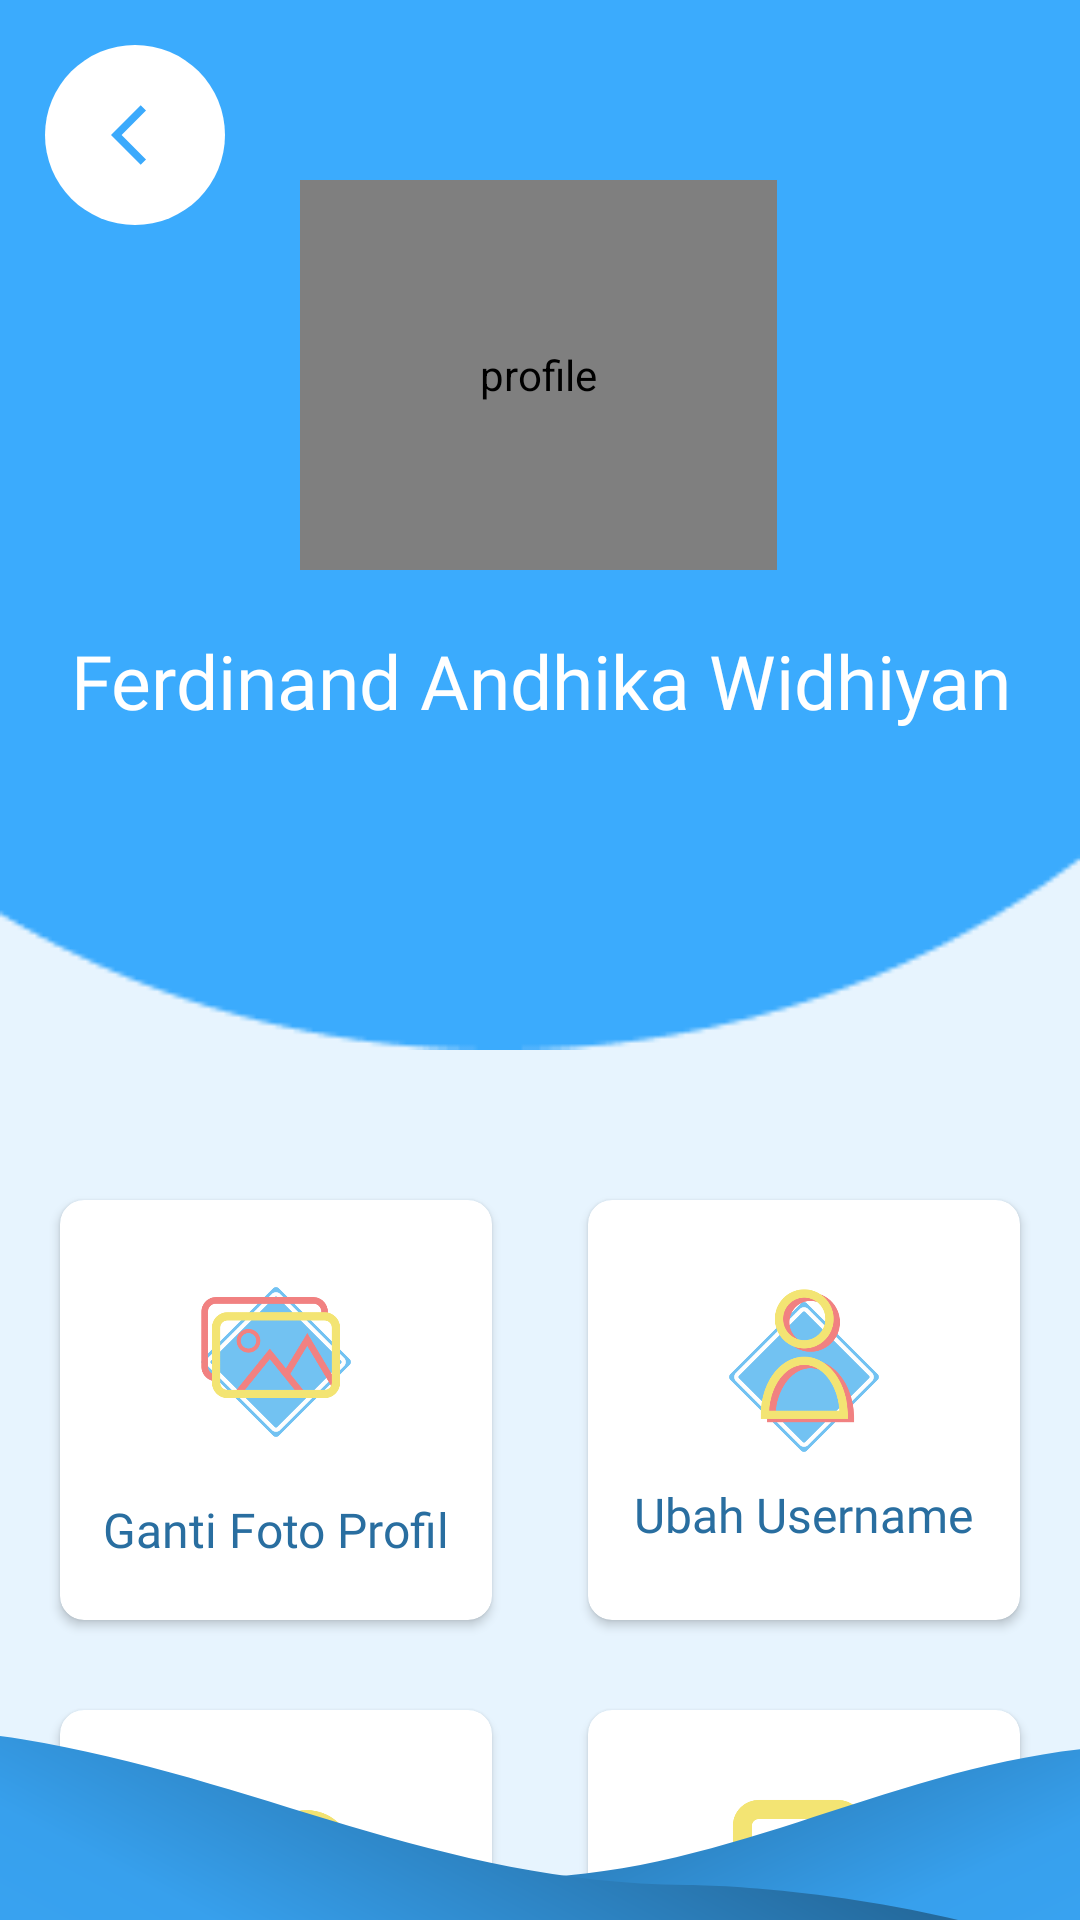

Icons on this 1080px x 1920px Android screen, each with the point to tap as (x=x, y=y):
account: (x=804, y=1370)
gallery: (x=276, y=1362)
